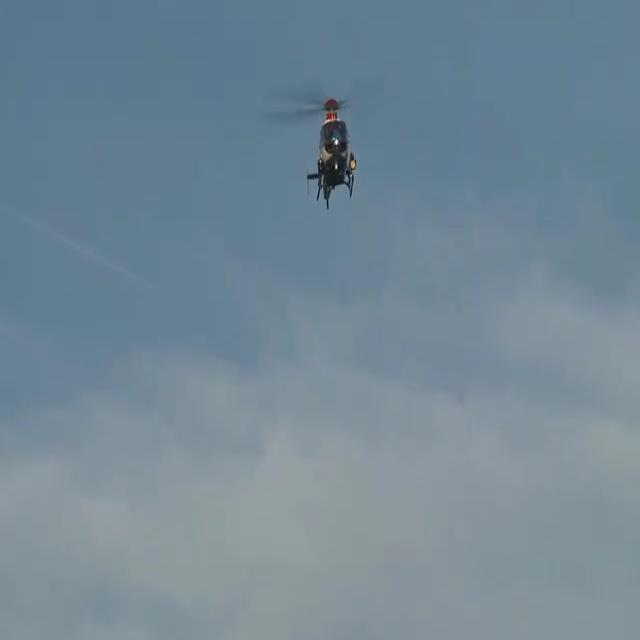Helicopter: (277, 79, 399, 202)
